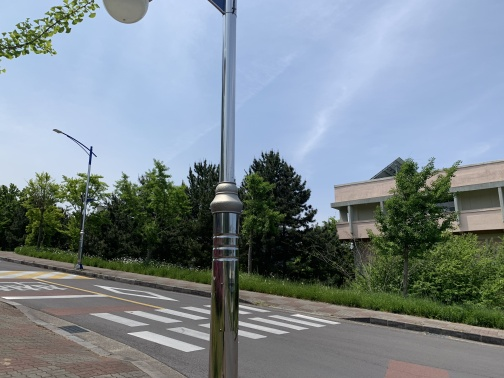College Of Education: (323, 146, 504, 278)
